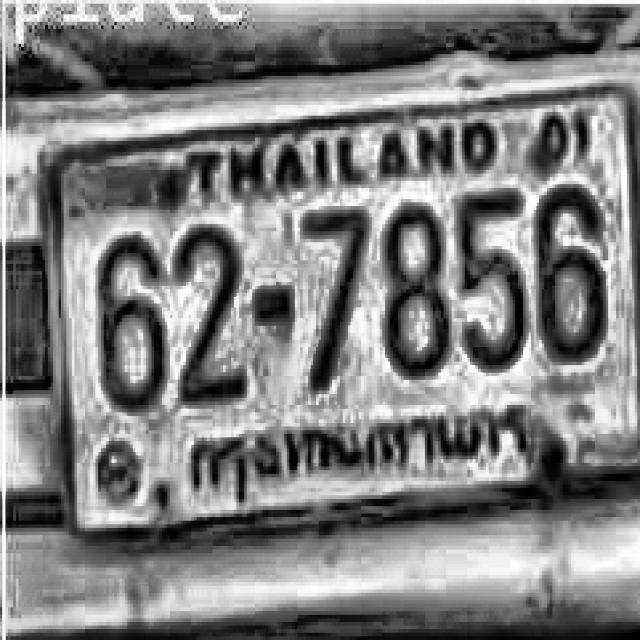license-plate: (53, 72, 640, 539)
